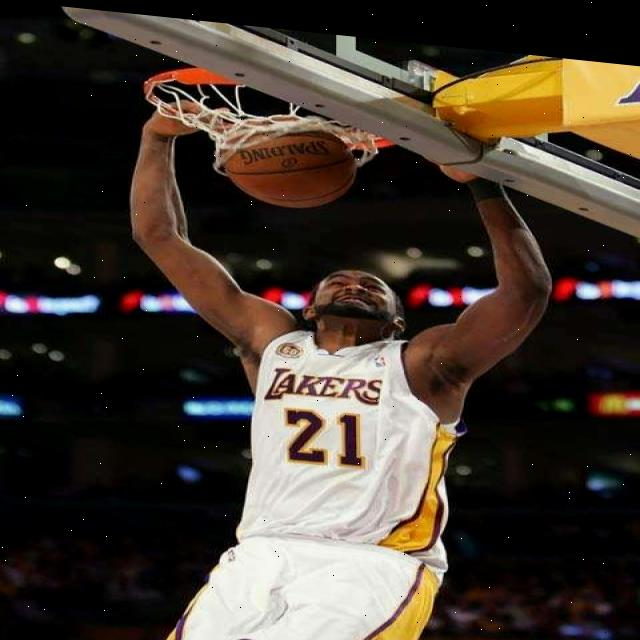basketball: (216, 111, 357, 218)
hoop: (145, 57, 394, 224), (144, 55, 392, 192)
